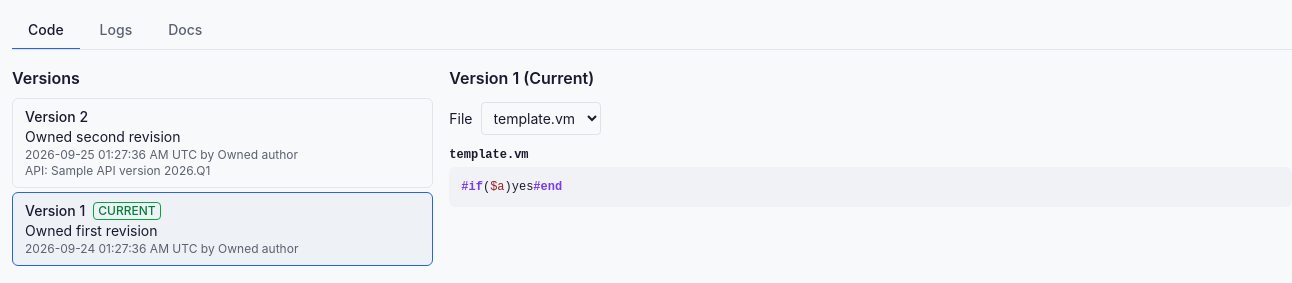
ScriptViewerWidget › offers a per-file select in the script type's schema order, coloring each file by its type
The width and height of the screenshot is (1292, 283).
Check: the text "#if" is shown, box [461, 180, 483, 194]
Select "data.json" in the dropdown labelled "File". click: (540, 118)
box: [480, 102, 600, 135]
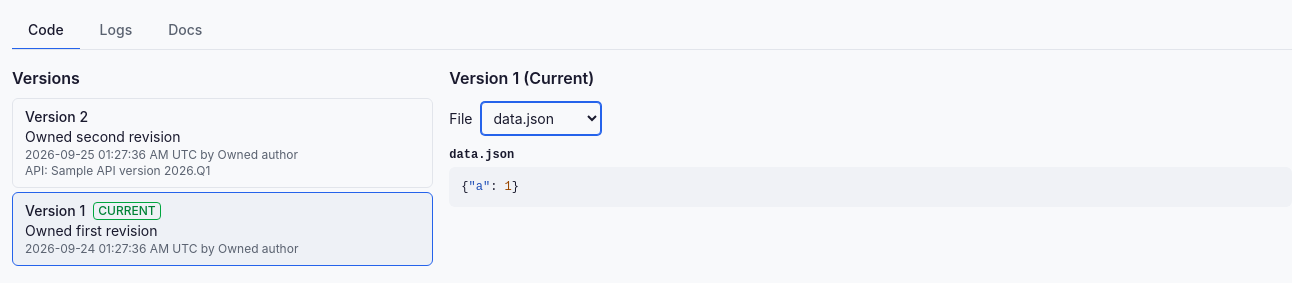
Check: the text "\"a\"" is shown, box [468, 180, 490, 194]
